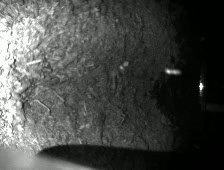corn: (165, 68, 180, 74), (123, 60, 130, 66), (119, 65, 125, 70)
